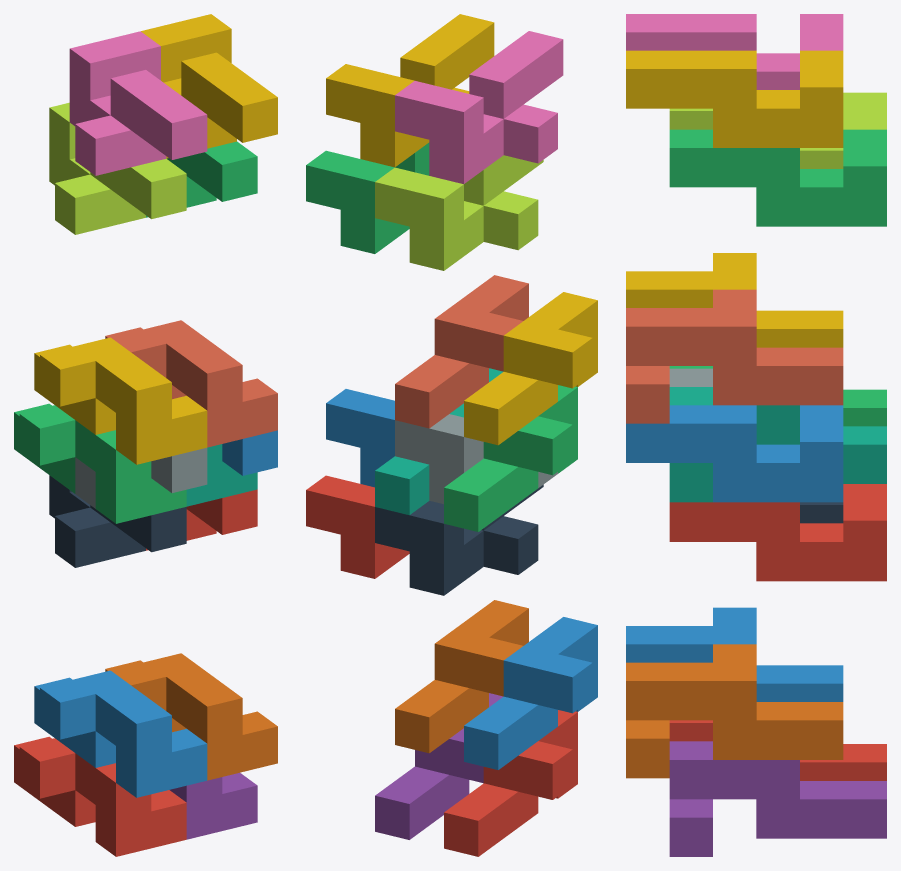
The model's file is tiling.obj.
The picture shows the model from 3 angles, left to right: view 1: azimuth 30°, elevation 25°; view 2: azimuth 150°, elevation 25°; view 3: azimuth 270°, elevation 25°; orthographic projection. The views are drawn at different scales.
Visible parts, largest first — view 1: copy_2_domain_4, copy_1_domain_2, copy_1_domain_4, copy_1_domain_1, copy_1_domain_6, copy_1_domain_8, copy_2_domain_8, copy_1_domain_3, copy_2_domain_3, copy_2_domain_1, copy_2_domain_7, copy_1_domain_5 (+4 smaller); view 2: copy_2_domain_4, copy_2_domain_3, copy_1_domain_4, copy_1_domain_2, copy_2_domain_8, copy_1_domain_8, copy_1_domain_6, copy_2_domain_1, copy_1_domain_1, copy_1_domain_3, copy_2_domain_7, copy_1_domain_5 (+4 smaller); view 3: copy_1_domain_8, copy_1_domain_6, copy_2_domain_8, copy_2_domain_6, copy_1_domain_5, copy_2_domain_7, copy_2_domain_5, copy_1_domain_4, copy_1_domain_2, copy_2_domain_4, copy_1_domain_7, copy_2_domain_3 (+4 smaller).
Part boxes in pixels (left/top/right/bottom): copy_2_domain_4: left=69, top=31, right=207, bottom=175; copy_1_domain_2: left=34, top=670, right=207, bottom=797; copy_1_domain_4: left=34, top=337, right=207, bottom=464; copy_1_domain_1: left=14, top=736, right=186, bottom=856; copy_1_domain_6: left=105, top=653, right=277, bottom=780; copy_1_domain_8: left=105, top=320, right=277, bottom=447; copy_2_domain_8: left=141, top=14, right=277, bottom=158; copy_1_domain_3: left=14, top=403, right=186, bottom=523; copy_2_domain_3: left=49, top=102, right=186, bottom=234; copy_2_domain_1: left=49, top=475, right=186, bottom=567; copy_2_domain_7: left=146, top=141, right=257, bottom=217; copy_1_domain_5: left=170, top=772, right=257, bottom=839; copy_2_domain_4: left=395, top=31, right=563, bottom=184; copy_2_domain_3: left=375, top=155, right=543, bottom=270; copy_1_domain_4: left=464, top=292, right=597, bottom=445; copy_1_domain_2: left=464, top=617, right=597, bottom=769; copy_2_domain_8: left=326, top=14, right=494, bottom=167; copy_1_domain_8: left=395, top=275, right=528, bottom=428; copy_1_domain_6: left=395, top=600, right=528, bottom=753; copy_2_domain_1: left=375, top=484, right=543, bottom=595; copy_1_domain_1: left=444, top=710, right=577, bottom=856; copy_1_domain_3: left=444, top=385, right=577, bottom=531; copy_2_domain_7: left=306, top=142, right=429, bottom=253; copy_1_domain_5: left=375, top=693, right=503, bottom=839; copy_1_domain_8: left=626, top=289, right=843, bottom=423; copy_1_domain_6: left=626, top=644, right=843, bottom=778; copy_2_domain_8: left=626, top=50, right=843, bottom=147; copy_2_domain_6: left=626, top=405, right=843, bottom=502; copy_1_domain_5: left=669, top=741, right=886, bottom=856; copy_2_domain_7: left=669, top=129, right=886, bottom=226; copy_2_domain_5: left=669, top=484, right=886, bottom=581; copy_1_domain_4: left=626, top=253, right=843, bottom=347; copy_1_domain_2: left=626, top=607, right=843, bottom=701; copy_2_domain_4: left=626, top=14, right=843, bottom=89; copy_1_domain_7: left=669, top=387, right=886, bottom=502; copy_2_domain_3: left=669, top=92, right=886, bottom=168.
Bounding box in the file's own units: 6 × 20 × 6.
